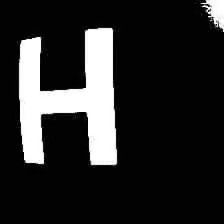LTR_H: (4, 19, 126, 168)
